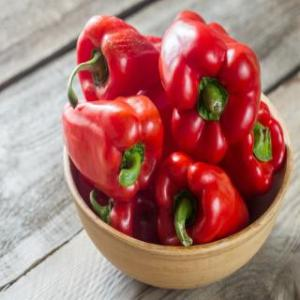bell_pepper: (158, 14, 270, 160), (63, 95, 162, 198), (158, 154, 250, 256), (65, 12, 155, 108)
